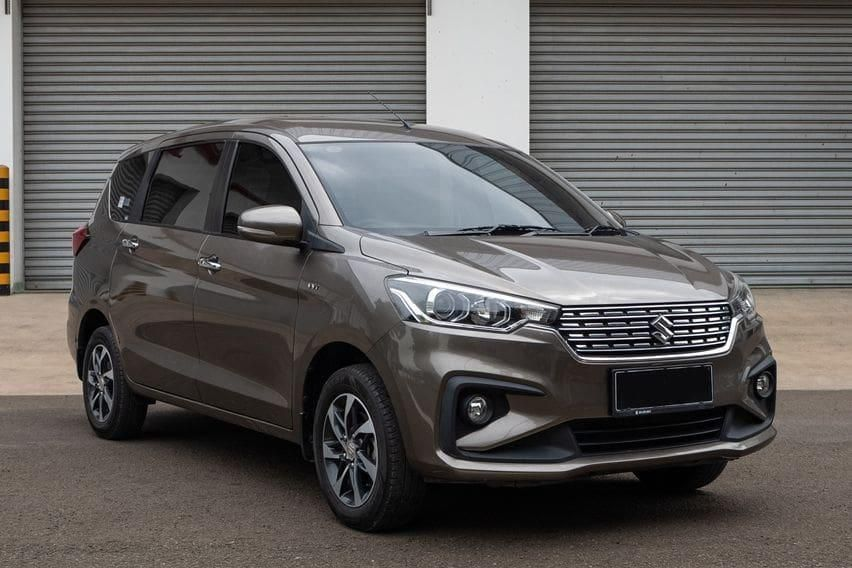car: (67, 116, 778, 534)
